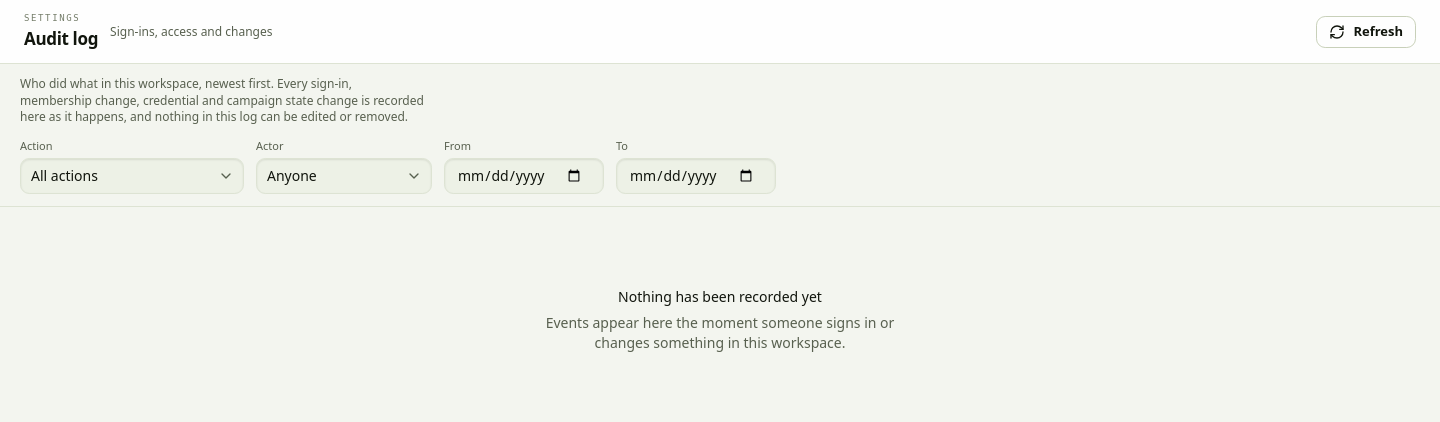
an empty log and an empty filter say different things
Check: the text "Nothing has been recorded yet" is shown, box top-left (618, 287), bottom-right (822, 306)
Select "System" in the dropdown labelled "Actor" at (344, 176), box top-left (256, 158), bottom-right (432, 194)
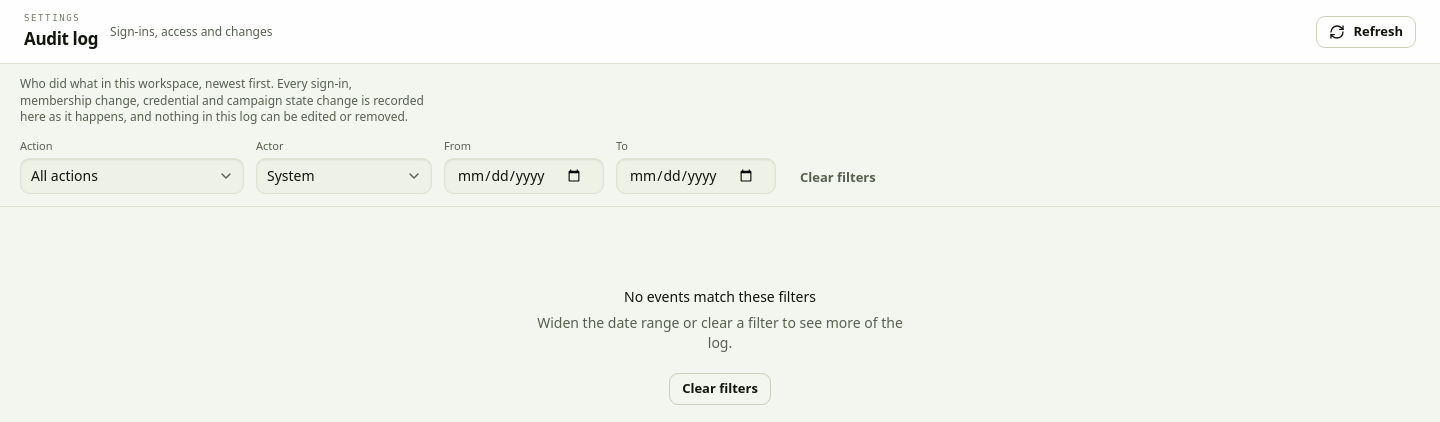
Check: the text "No events match these filters" is shown, box top-left (624, 287), bottom-right (816, 306)
# The empty state's own way out clears every filter.
Click the button "Clear filters" below "No events match these filters" at (720, 389), box top-left (669, 373), bottom-right (771, 405)
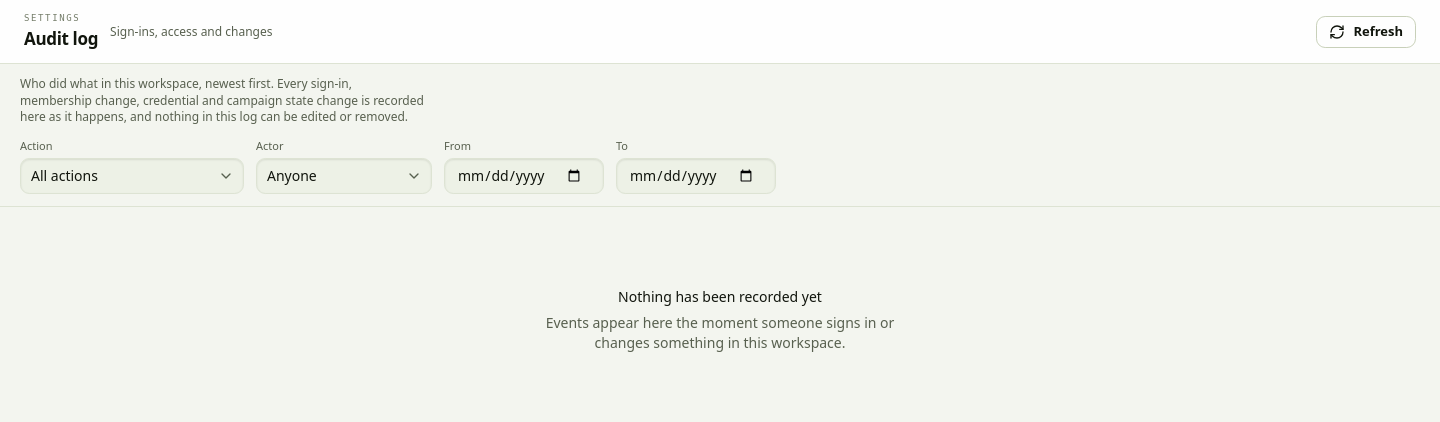
Check: the text "Nothing has been recorded yet" is shown, box top-left (618, 287), bottom-right (822, 306)
